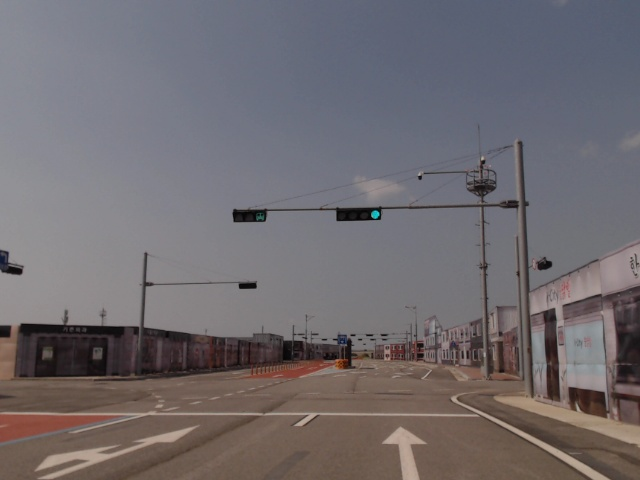straight_green_4: (337, 208, 382, 222)
